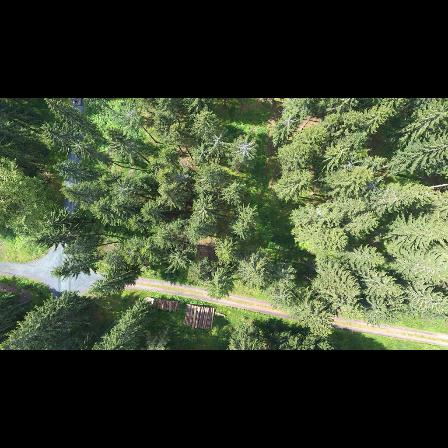Sick: (231, 136, 260, 165), (202, 130, 231, 156)
